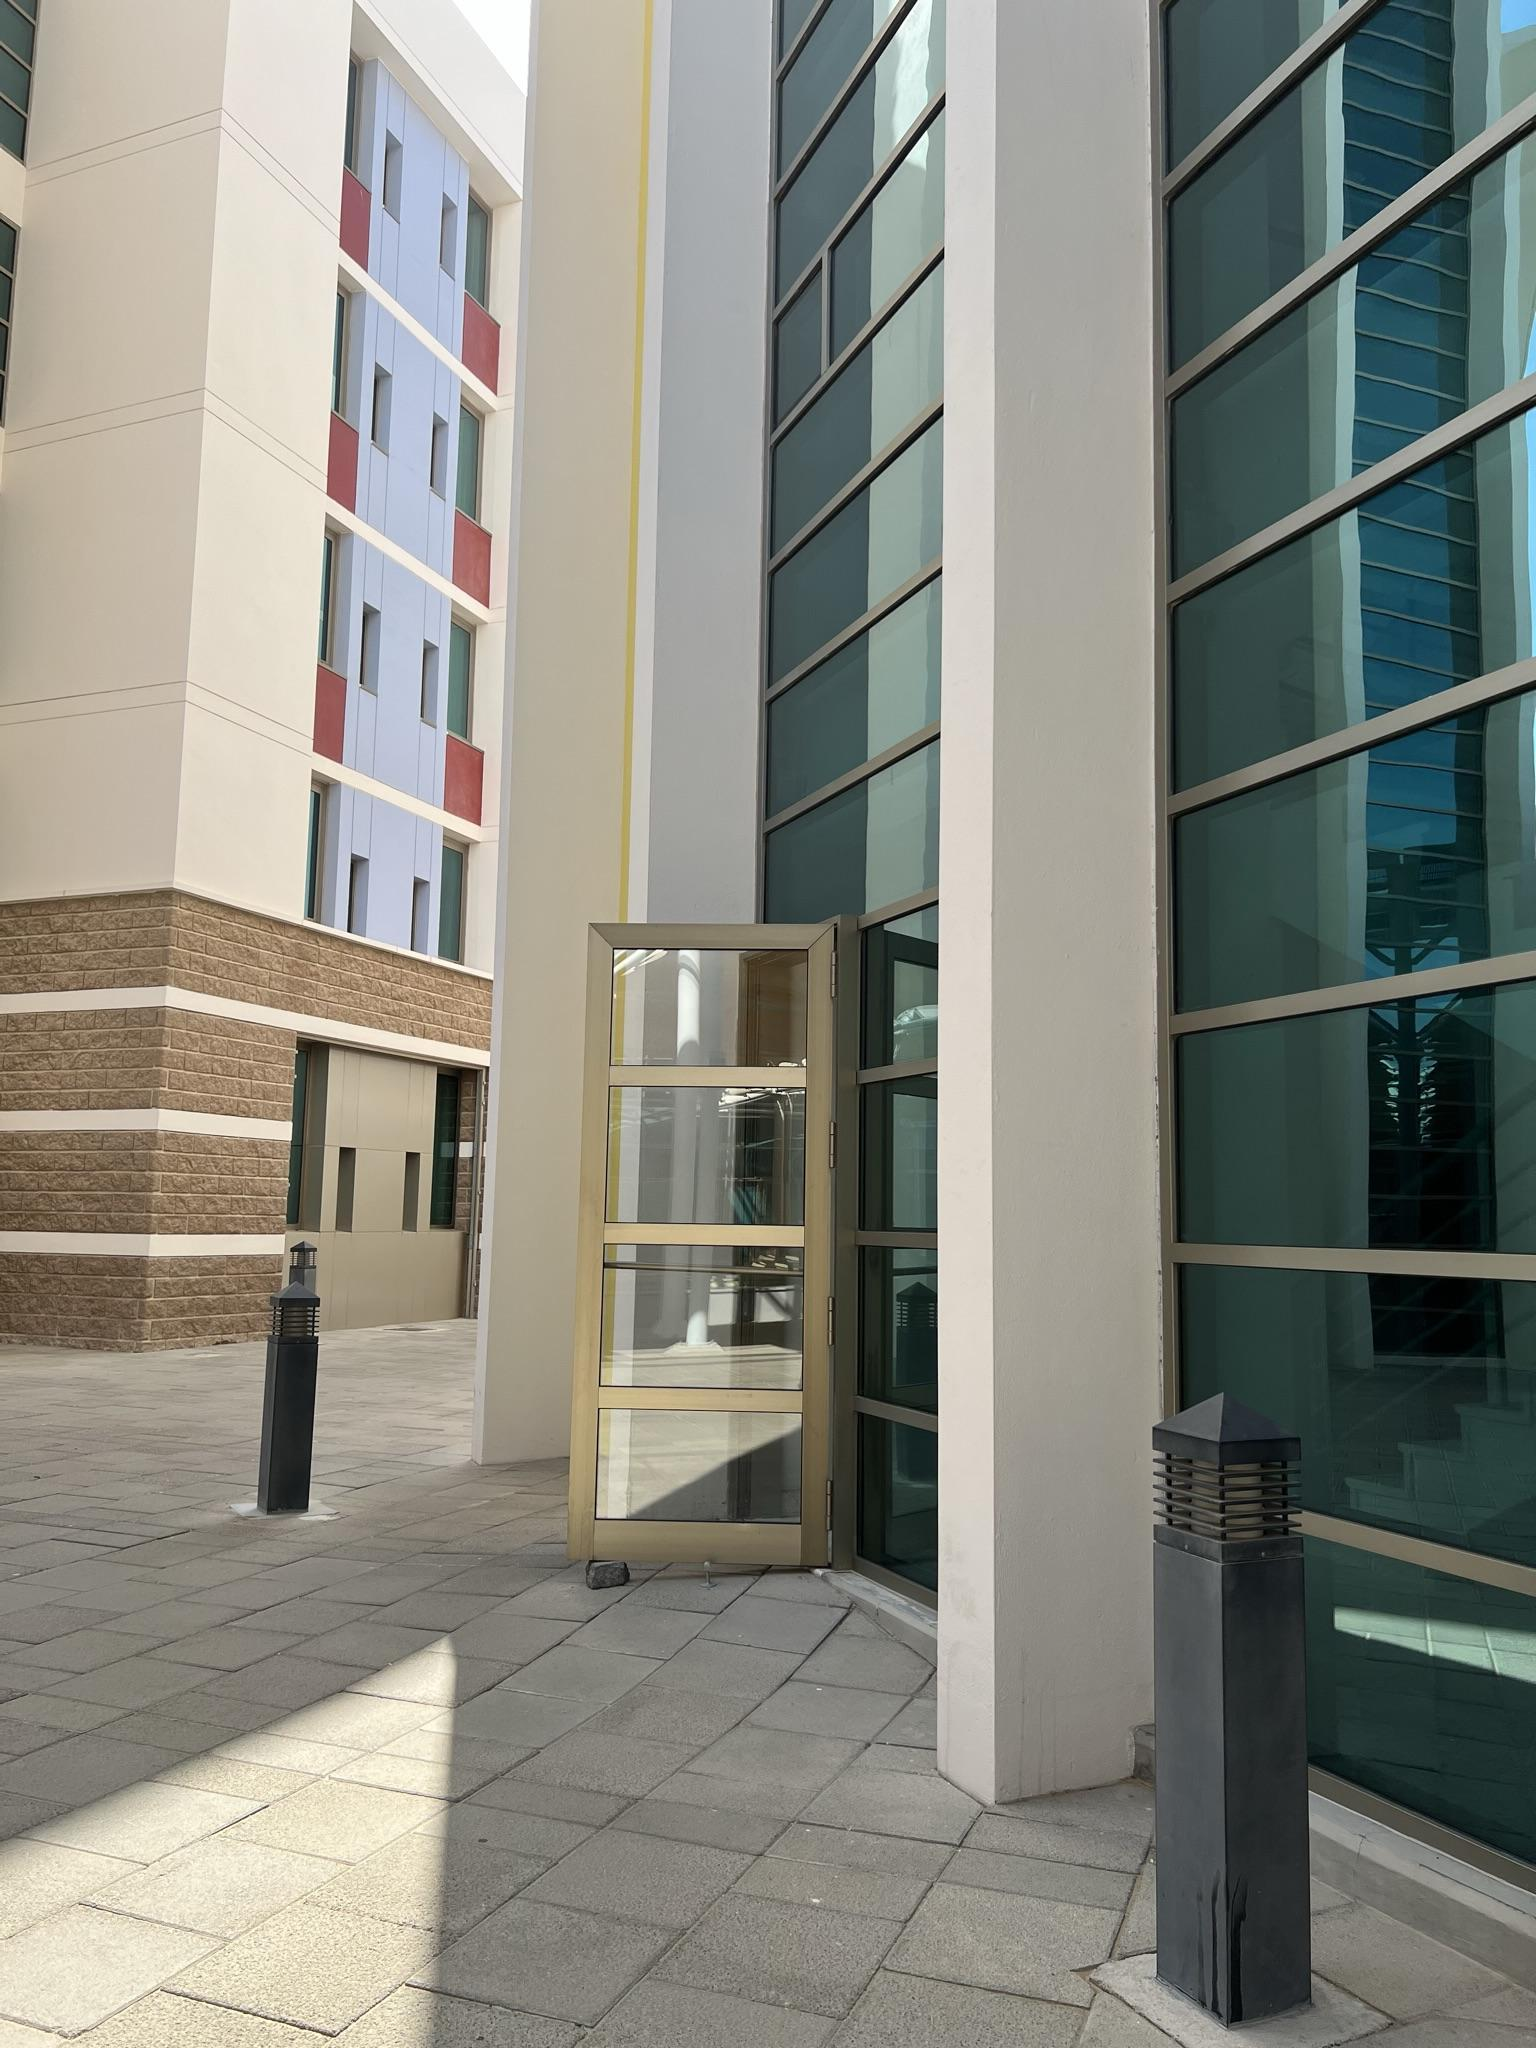door: (582, 921, 829, 1587)
